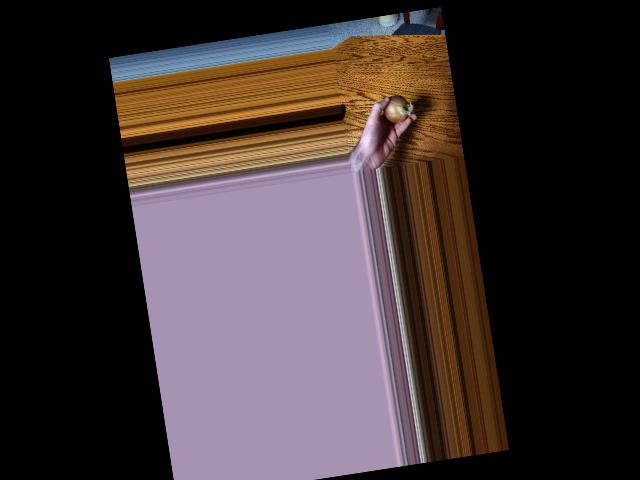onion: (381, 93, 410, 126)
